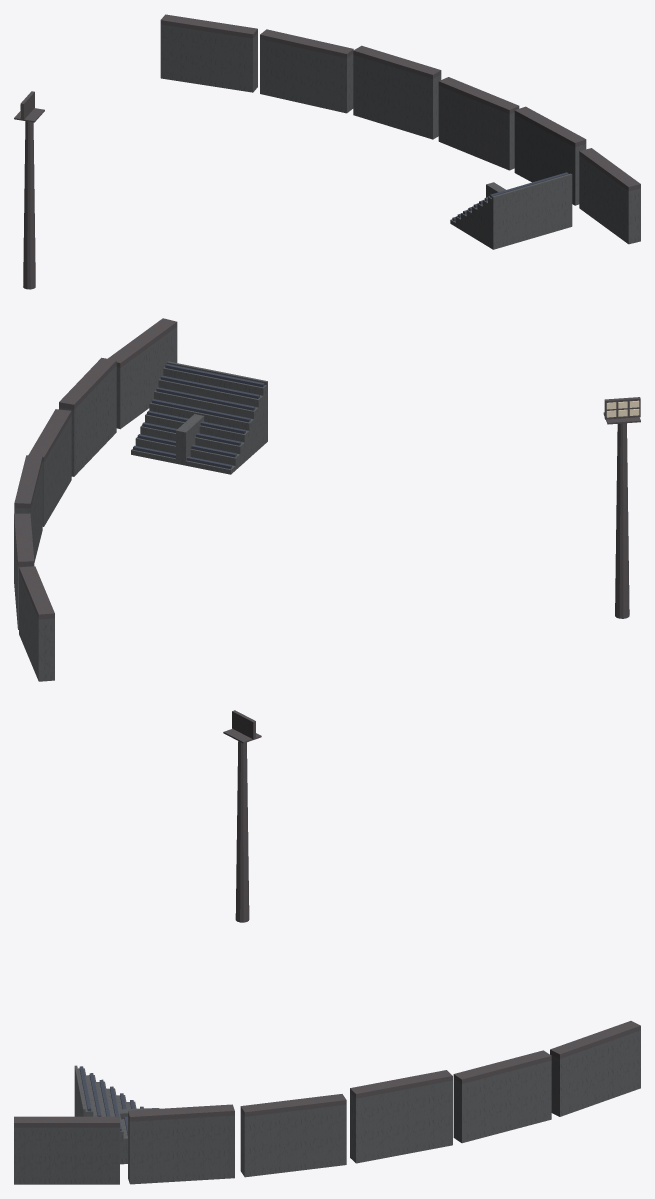
The model's file is SM_City_AlHalqa_0.fbx.
The picture shows the model from 3 angles, top to bottom: view 1: azimuth 30°, elevation 25°; view 2: azimuth 150°, elevation 25°; view 3: azimuth 270°, elevation 25°; orthographic projection. The views are drawn at different scales.
Parts seen in each view (by area): view 1: SM_City_AlHalqa_0; view 2: SM_City_AlHalqa_0; view 3: SM_City_AlHalqa_0.
Part boxes in pixels (x1,y1,x2,y2): SM_City_AlHalqa_0: (14, 14, 640, 289); SM_City_AlHalqa_0: (14, 318, 640, 681); SM_City_AlHalqa_0: (14, 710, 640, 1184).
Size of the model in its own units: 5055 by 1752 by 4902.
5 materials, 5 textured.
